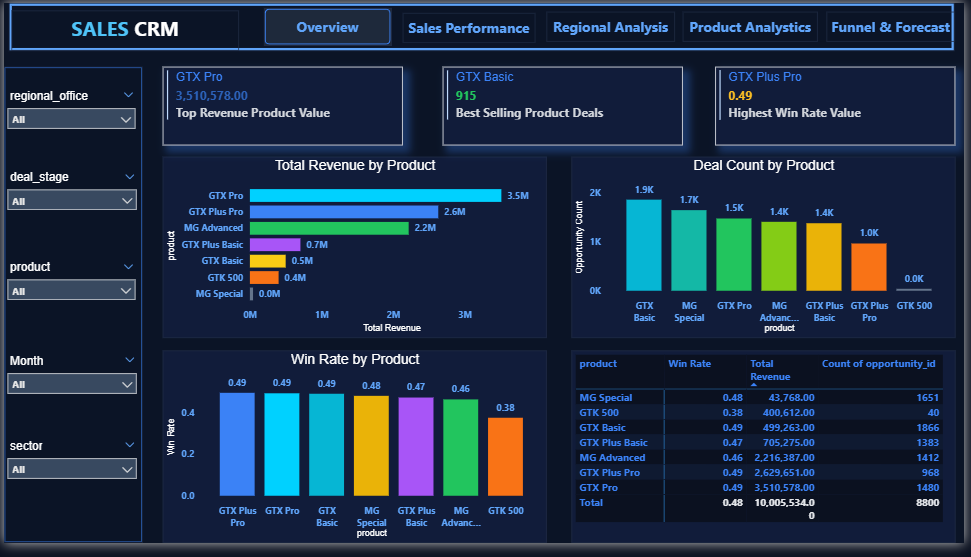

What the dashboard file says about the page in this screenshot:
{"tool":"powerbi","page":{"name":"Product Analytics","canvas":[1280,720],"ordinal":3},"visuals":[{"type":"actionButton","box":[7.5,0,1260.9,64.2],"z":0},{"type":"shape","box":[0,84.7,185,635],"z":1000},{"type":"slicer","fields":{"Values":["public sales_teams.regional_office"]},"box":[0,110,185,80],"z":2000},{"type":"slicer","fields":{"Values":["public sales_pipeline.deal_stage"]},"box":[0,218.3,186.7,81.7],"z":3000},{"type":"slicer","fields":{"Values":["public products.product"]},"box":[0,338.3,185,80],"z":4000},{"type":"clusteredBarChart","title":"Total Revenue by Product","fields":{"Category":["public products.product"],"Y":["public sales_pipeline.Total Revenue"]},"box":[211.7,205,511.7,241.7],"z":5000},{"type":"textbox","box":[10,10,303.3,53.3],"z":6000},{"type":"multiRowCard","fields":{"Values":["public products.Top Revenue Product","public products.Top Revenue Product Value"]},"box":[211.7,85,320,105],"z":7000},{"type":"multiRowCard","fields":{"Values":["public products.Best Selling Product","public products.Best Selling Product Deals"]},"box":[585,85,320,105],"z":8000},{"type":"multiRowCard","fields":{"Values":["public products.Highest Win Rate Product","public products.Highest Win Rate Value"]},"box":[948.3,85,320,105],"z":9000},{"type":"columnChart","title":"Deal Count by Product","fields":{"Category":["public products.product"],"Y":["public sales_pipeline.Opportunity Count"]},"box":[756.7,205,511.7,241.7],"z":10000},{"type":"columnChart","title":"Win Rate by Product","fields":{"Category":["public products.product"],"Y":["public sales_pipeline.Win Rate"]},"box":[211.7,463.3,511.7,256.7],"z":11000},{"type":"pivotTable","fields":{"Values":["public sales_pipeline.Win Rate","public sales_pipeline.Total Revenue","CountNonNull(public sales_pipeline.opportunity_id)"],"Rows":["public sales_pipeline.product"]},"box":[756.7,463.3,511.7,256.7],"z":12000},{"type":"slicer","fields":{"Values":["public sales_pipeline.engage_date.Variation.Date Hierarchy.Month"]},"box":[0,463.3,186.7,81.7],"z":13000},{"type":"slicer","fields":{"Values":["public accounts.sector"]},"box":[0,576.7,186.7,80],"z":14000},{"type":"actionButton","title":"Product Analysis","box":[347.1,7.1,170,50],"z":15000},{"type":"actionButton","title":"Product Analysis","box":[722.9,11.4,171.4,40],"z":16000},{"type":"actionButton","title":"Product Analysis","box":[904.3,11.4,180,40],"z":17000},{"type":"actionButton","title":"Product Analysis","box":[531.4,12.9,177.1,40],"z":18000},{"type":"actionButton","title":"Product Analysis","box":[1097.1,11.4,171.4,40],"z":19000}]}

Visuals, with their boxes in screenshot pixels (x1, y1, x2, y2), scaled from the page's 1280x720 canvas onto the 971x557 screenshot:
actionButton: <bbox>6, 0, 962, 50</bbox>
shape: <bbox>0, 66, 140, 556</bbox>
slicer - public sales_teams.regional_office: <bbox>0, 85, 140, 147</bbox>
slicer - public sales_pipeline.deal_stage: <bbox>0, 169, 142, 232</bbox>
slicer - public products.product: <bbox>0, 262, 140, 324</bbox>
"Total Revenue by Product" clusteredBarChart: <bbox>161, 159, 549, 346</bbox>
textbox: <bbox>8, 8, 238, 49</bbox>
multiRowCard - public products.Top Revenue Product x public products.Top Revenue Product Value: <bbox>161, 66, 403, 147</bbox>
multiRowCard - public products.Best Selling Product x public products.Best Selling Product Deals: <bbox>444, 66, 687, 147</bbox>
multiRowCard - public products.Highest Win Rate Product x public products.Highest Win Rate Value: <bbox>719, 66, 962, 147</bbox>
"Deal Count by Product" columnChart: <bbox>574, 159, 962, 346</bbox>
"Win Rate by Product" columnChart: <bbox>161, 358, 549, 556</bbox>
pivotTable - public sales_pipeline.Win Rate x public sales_pipeline.Total Revenue: <bbox>574, 358, 962, 556</bbox>
slicer - public sales_pipeline.engage_date.Variation.Date Hierarchy.Month: <bbox>0, 358, 142, 422</bbox>
slicer - public accounts.sector: <bbox>0, 446, 142, 508</bbox>
"Product Analysis" actionButton: <bbox>263, 5, 392, 44</bbox>
"Product Analysis" actionButton: <bbox>548, 9, 678, 40</bbox>
"Product Analysis" actionButton: <bbox>686, 9, 823, 40</bbox>
"Product Analysis" actionButton: <bbox>403, 10, 537, 41</bbox>
"Product Analysis" actionButton: <bbox>832, 9, 962, 40</bbox>
